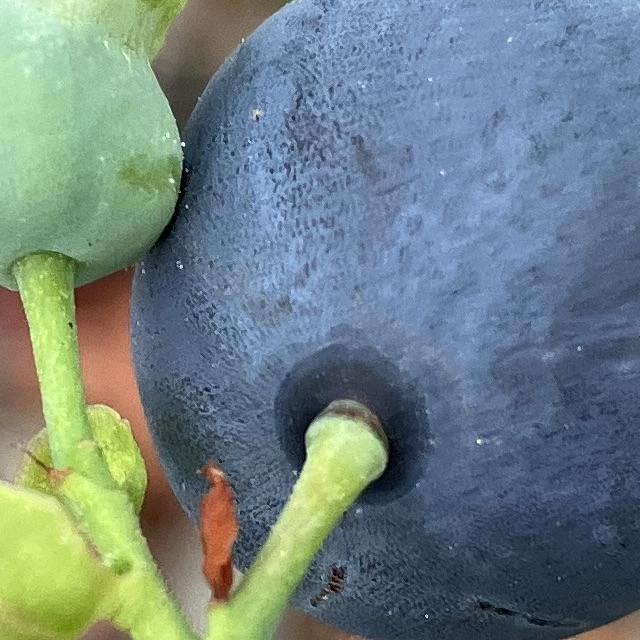Blueberries: (123, 0, 640, 640), (0, 0, 200, 295)
